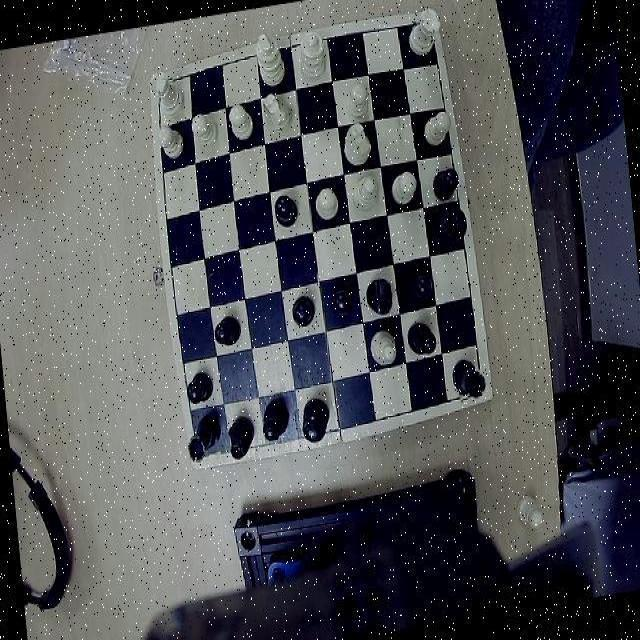chess-table-corners: (456, 370, 490, 406), (188, 434, 222, 466), (410, 13, 441, 46), (149, 72, 176, 104)
